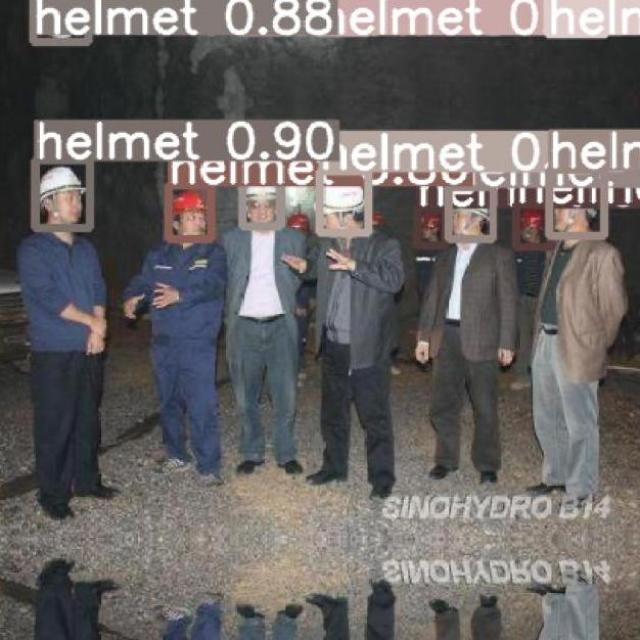red helmet: (172, 189, 206, 234), (520, 209, 549, 244), (419, 211, 442, 238), (290, 216, 313, 233)
white helmet: (39, 165, 85, 228), (326, 181, 368, 227), (248, 186, 278, 221)
